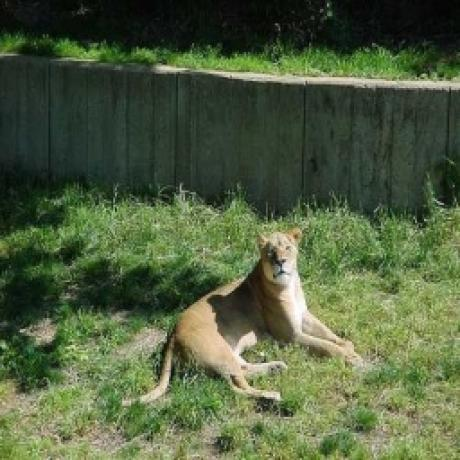Lion: (122, 225, 370, 401)
